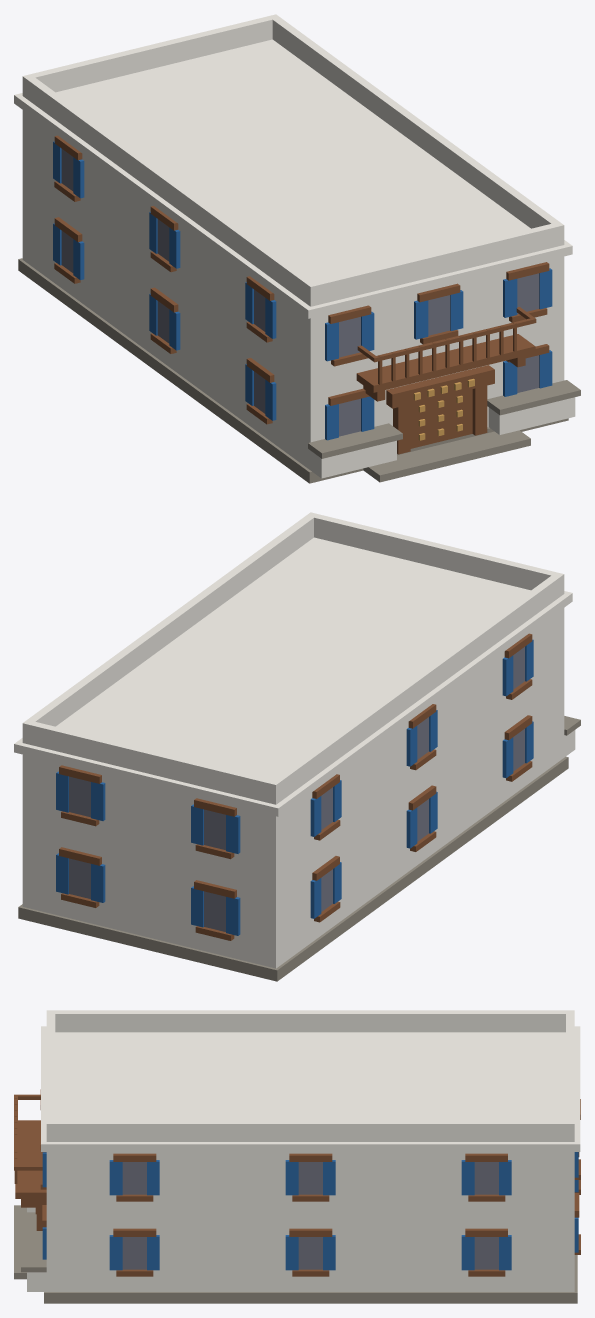
The model's file is house-1x2-2f-swahili-a.glb.
3 renders of one model, top to bottom at view 1: azimuth 30°, elevation 25°; view 2: azimuth 150°, elevation 25°; view 3: azimuth 270°, elevation 25°, orthographic. The views are drawn at different scales.
Parts seen in each view (by area): view 1: house-1x2-2f-swahili-a; view 2: house-1x2-2f-swahili-a; view 3: house-1x2-2f-swahili-a.
Part boxes in pixels (box(x1,y1,x2,y2)): house-1x2-2f-swahili-a: box(14, 14, 580, 483); house-1x2-2f-swahili-a: box(14, 512, 580, 981); house-1x2-2f-swahili-a: box(14, 1010, 580, 1303).
Bounding box in the file's own units: 0.984 × 0.69 × 1.99.
Materials: 1 (1 with a texture image).
